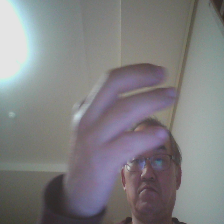hand: (67, 60, 177, 218)
